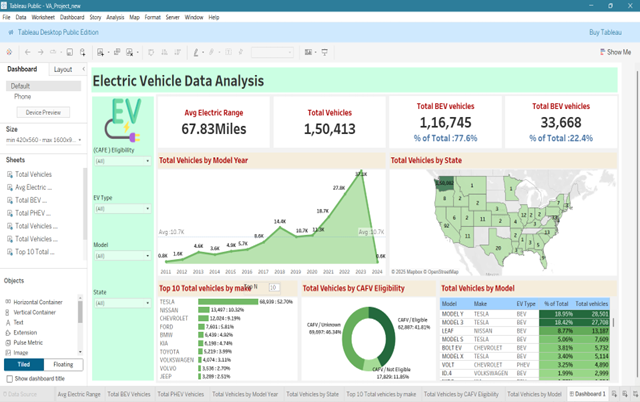

What the dashboard file says about the page in this screenshot:
{"tool":"tableau","page":{"name":"Dashboard 1","canvas":[1000,1000],"units":"permille","ordinal":0},"visuals":[{"type":"title","box":[5,10,990,87.3]},{"type":"worksheet","title":"Avg Electric Range","mark":"Automatic","box":[128.1,97.3,216.9,173.3]},{"type":"worksheet","title":"Total Vehicles","mark":"Automatic","box":[345,97.3,216.9,173.3]},{"type":"worksheet","title":"Total BEV Vehicles","mark":"Automatic","box":[561.9,97.3,216.9,173.3]},{"type":"worksheet","title":"Total PHEV Vehicles ","mark":"Automatic","box":[778.8,97.3,216.2,173.3]},{"type":"image","param":"C:/Users/krupa/OneDrive/Desktop/VA/EV.png","box":[8.8,104.7,115.6,147.1]},{"type":"filter","title":"Total Vehicles by Model Year","param":"[federated.0ya8c460zjcjyr18w6k3f0inj9fd].[none:Clean Alternative Fuel Vehicle (C","box":[8.8,251.9,115.6,147.1]},{"type":"worksheet","title":"Total Vehicles by Model Year","mark":"Area","rows":["Calculation_91197960201666560","Calculation_91197960201666560"],"cols":["Model Year"],"box":[128.1,270.6,433.8,395.3]},{"type":"worksheet","title":"Total Vehicles by State","mark":"Multipolygon","box":[561.9,270.6,433.1,395.3]},{"type":"filter","title":"Total Vehicles by Model Year","param":"[federated.0ya8c460zjcjyr18w6k3f0inj9fd].[none:Electric Vehicle Type:nk]","box":[8.8,399,115.6,145.9]},{"type":"filter","title":"Total Vehicles by Model Year","param":"[federated.0ya8c460zjcjyr18w6k3f0inj9fd].[none:Model:nk]","box":[8.8,544.9,115.6,145.9]},{"type":"worksheet","title":"Top 10 Total vehicles by make","mark":"Automatic","rows":["Make"],"cols":["Calculation_91197960201666560"],"box":[128.1,665.8,268.8,324.2]},{"type":"worksheet","title":"Total Vehicles by CAFV Eligibility","mark":"Pie","rows":["Calculation_91197960297504775","Calculation_91197960297504775"],"box":[396.9,665.8,259.4,324.2]},{"type":"worksheet","title":"Total Vehicles by Model","mark":"Square","rows":["Model","Make","Electric Vehicle Type"],"box":[656.2,665.8,338.8,324.2]},{"type":"parameter","param":"[Parameters].[Parameter 1]","box":[293.1,678.3,68.8,39.9]},{"type":"filter","title":"Total Vehicles by Model Year","param":"[federated.0ya8c460zjcjyr18w6k3f0inj9fd].[none:State:nk]","box":[8.8,690.8,115.6,145.9]},{"type":"blank","box":[8.8,836.7,115.6,145.9]}]}

Visuals, with their boxes on the dashboard's canvas, which has no fixed pixel size, in thousandths of its width and height (x1, y1, x2, y2). These are canvas units, not pixel positions in the 640x402 screenshot, which may show the page scaled, cropped or inside an application window:
title: 5/10/995/97
"Avg Electric Range" worksheet: 128/97/345/271
"Total Vehicles" worksheet: 345/97/562/271
"Total BEV Vehicles" worksheet: 562/97/779/271
"Total PHEV Vehicles " worksheet: 779/97/995/271
image: 9/105/124/252
"Total Vehicles by Model Year" filter: 9/252/124/399
"Total Vehicles by Model Year" worksheet (Area marks): 128/271/562/666
"Total Vehicles by State" worksheet (Multipolygon marks): 562/271/995/666
"Total Vehicles by Model Year" filter: 9/399/124/545
"Total Vehicles by Model Year" filter: 9/545/124/691
"Top 10 Total vehicles by make" worksheet: 128/666/397/990
"Total Vehicles by CAFV Eligibility" worksheet (Pie marks): 397/666/656/990
"Total Vehicles by Model" worksheet (Square marks): 656/666/995/990
parameter: 293/678/362/718
"Total Vehicles by Model Year" filter: 9/691/124/837
blank: 9/837/124/983
